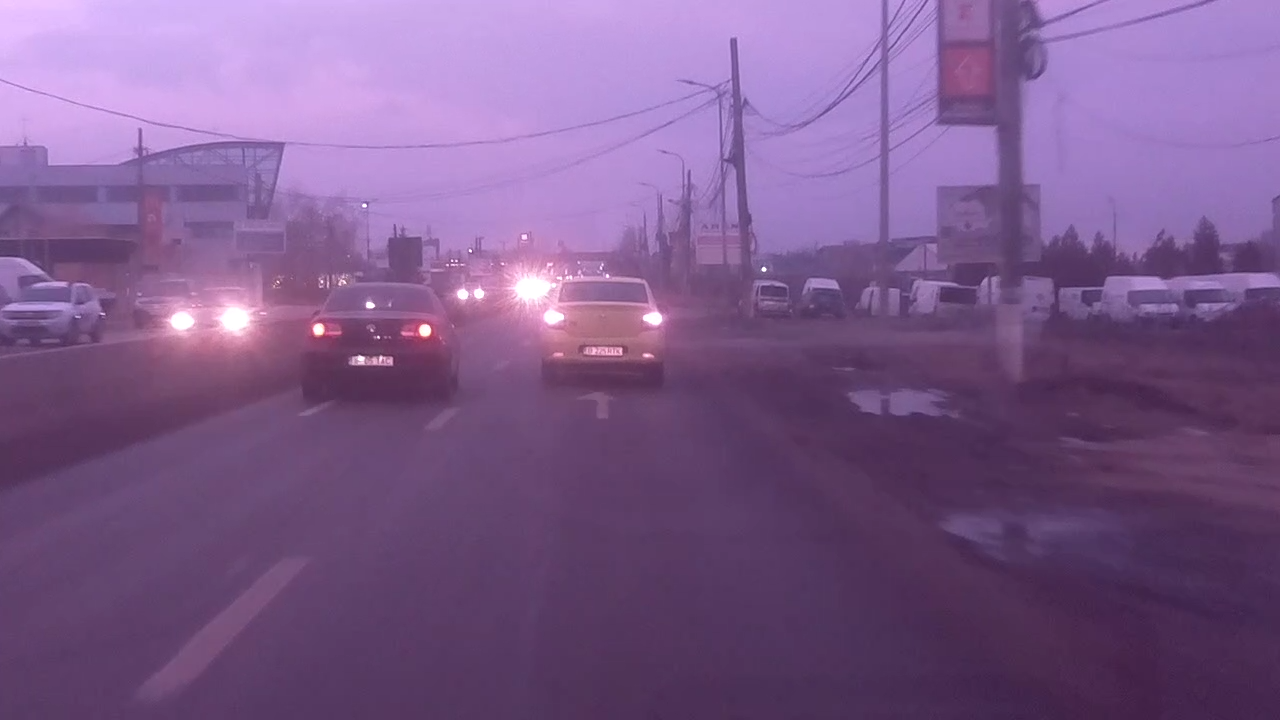license-plate: (346, 354, 395, 367), (579, 345, 625, 357)
